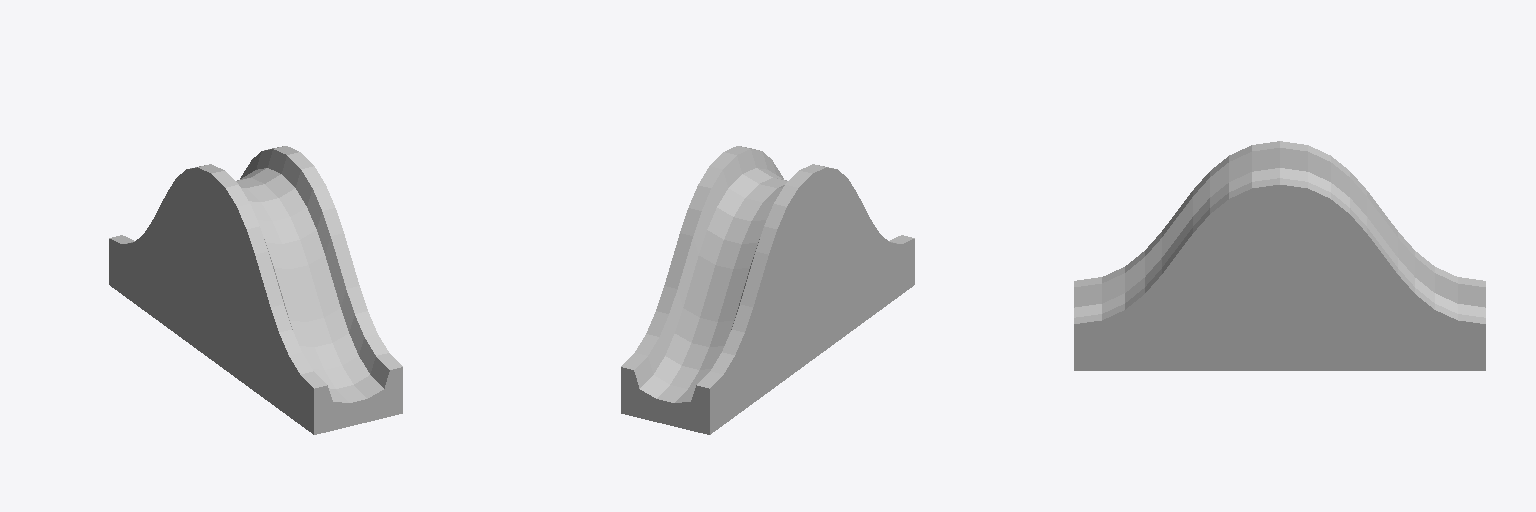
Rendered from bump-solid-d.obj.
3 renders of one model, left to right at view 1: azimuth 30°, elevation 25°; view 2: azimuth 150°, elevation 25°; view 3: azimuth 270°, elevation 25°, orthographic.
Parts seen in each view (by area): view 1: bump-solid-d; view 2: bump-solid-d; view 3: bump-solid-d.
Part boxes in pixels (x1,y1,x2,y2): bump-solid-d: (109,146,402,434); bump-solid-d: (621,146,914,434); bump-solid-d: (1074,141,1485,370).
Size of the model in its own units: 1 by 2 by 4.